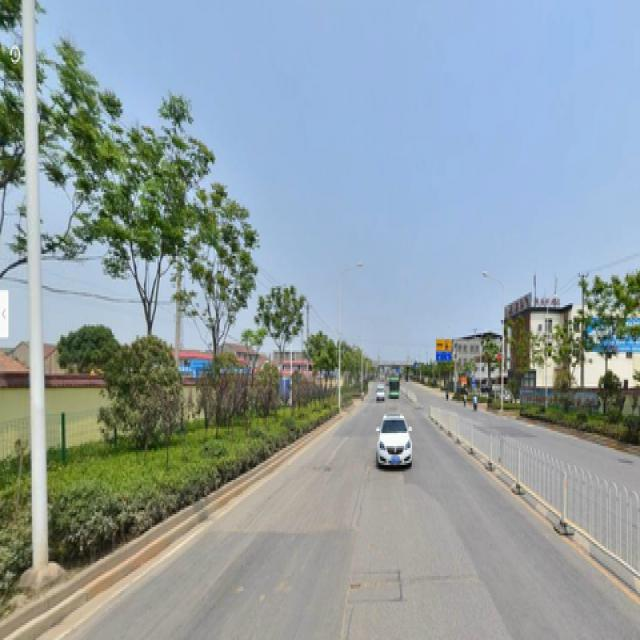koel: (33, 47, 92, 254), (125, 134, 175, 314), (200, 198, 236, 346), (580, 271, 616, 360), (272, 273, 295, 363)
